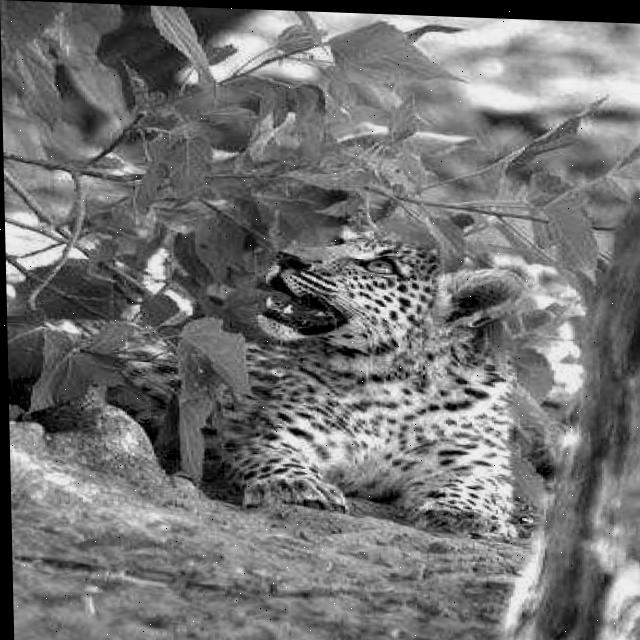Leopard: (214, 196, 640, 640)
